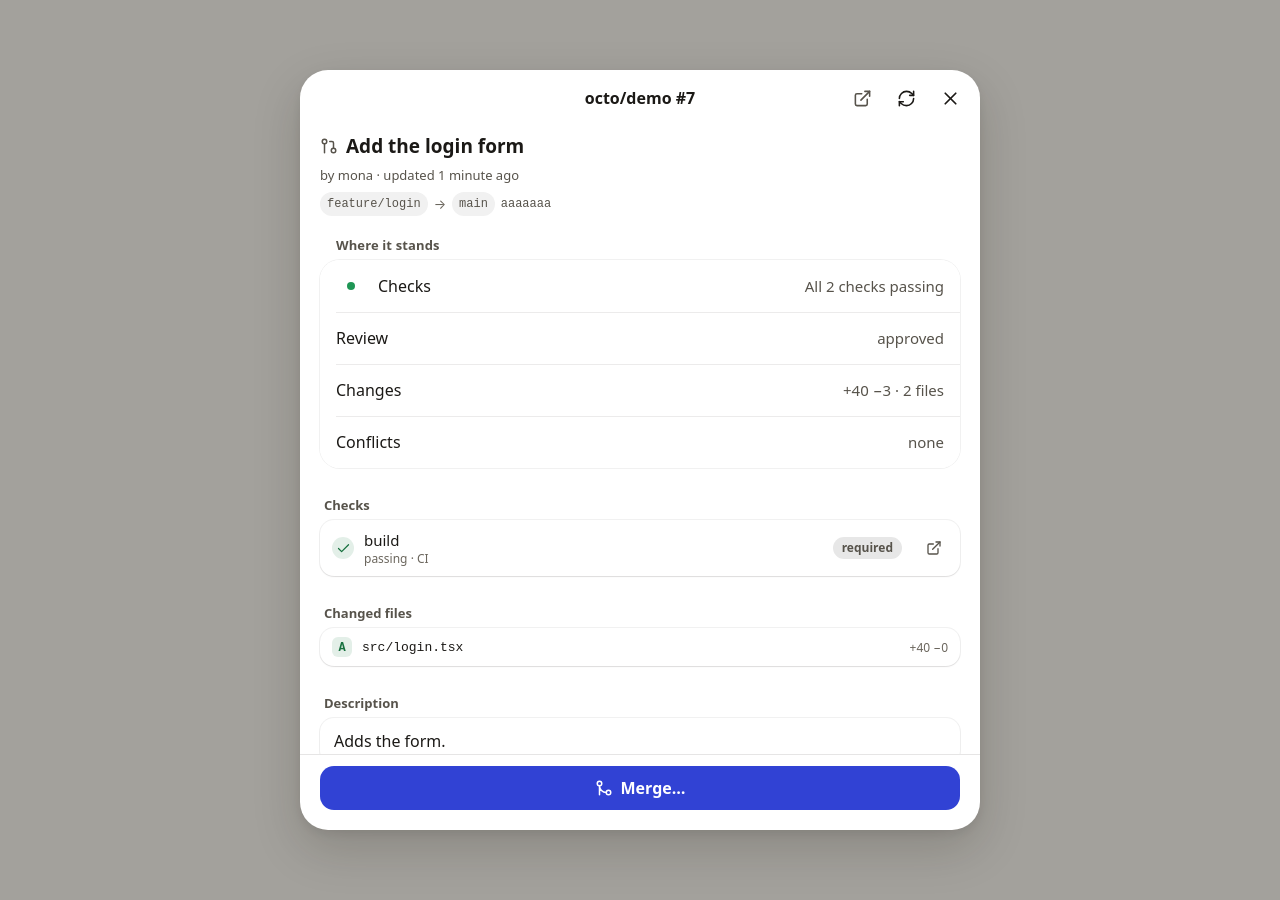
Test: the pull-request sheet › walks a merge through the method, the question that names it, and the result
Click the button "Merge…" at (640, 788), box 320,766 -> 960,810
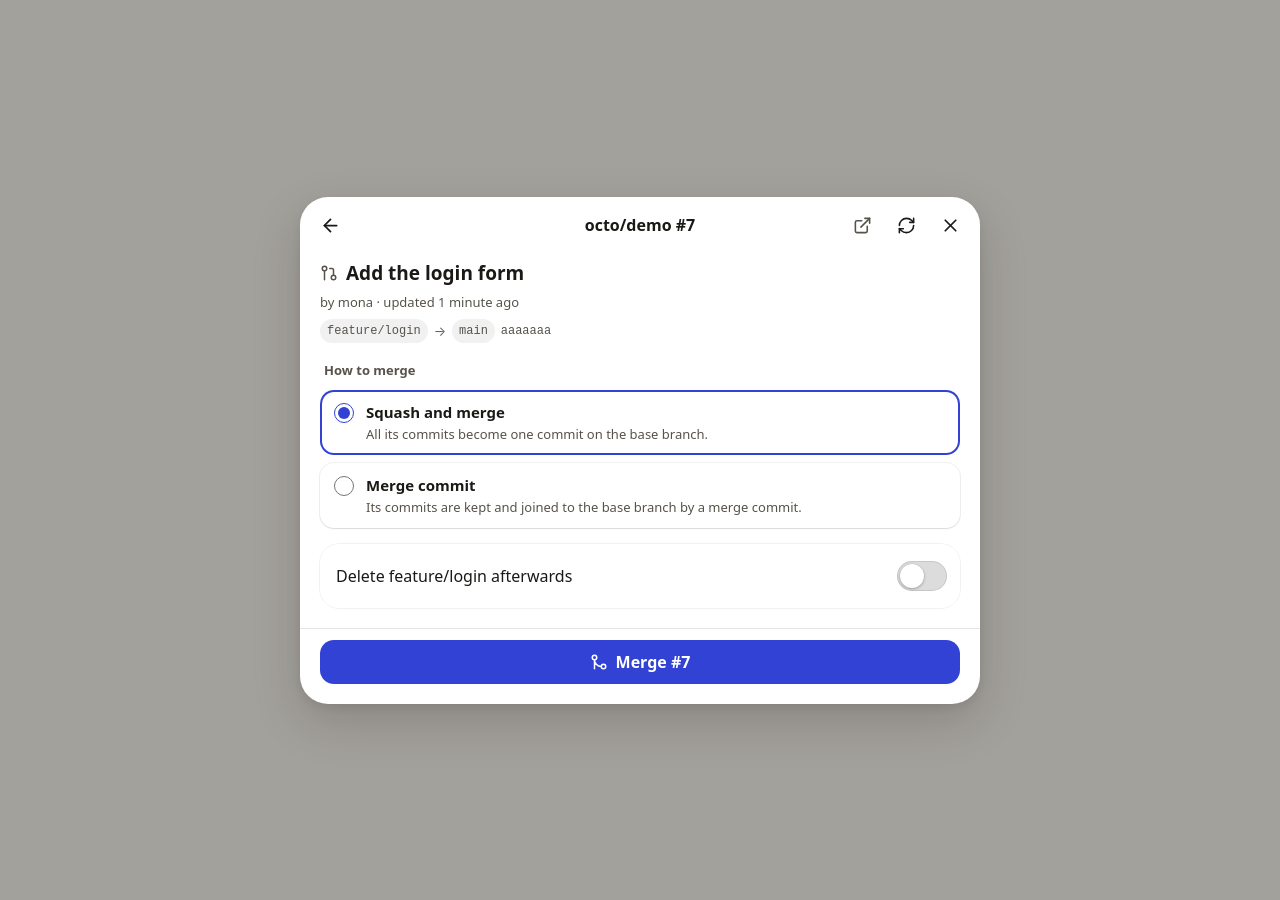
expect the radio button labelled "Squash and merge" is checked: met, box 334,402 -> 354,422
Click the radio button labelled "Merge commit" at (344, 486), box 334,476 -> 354,496
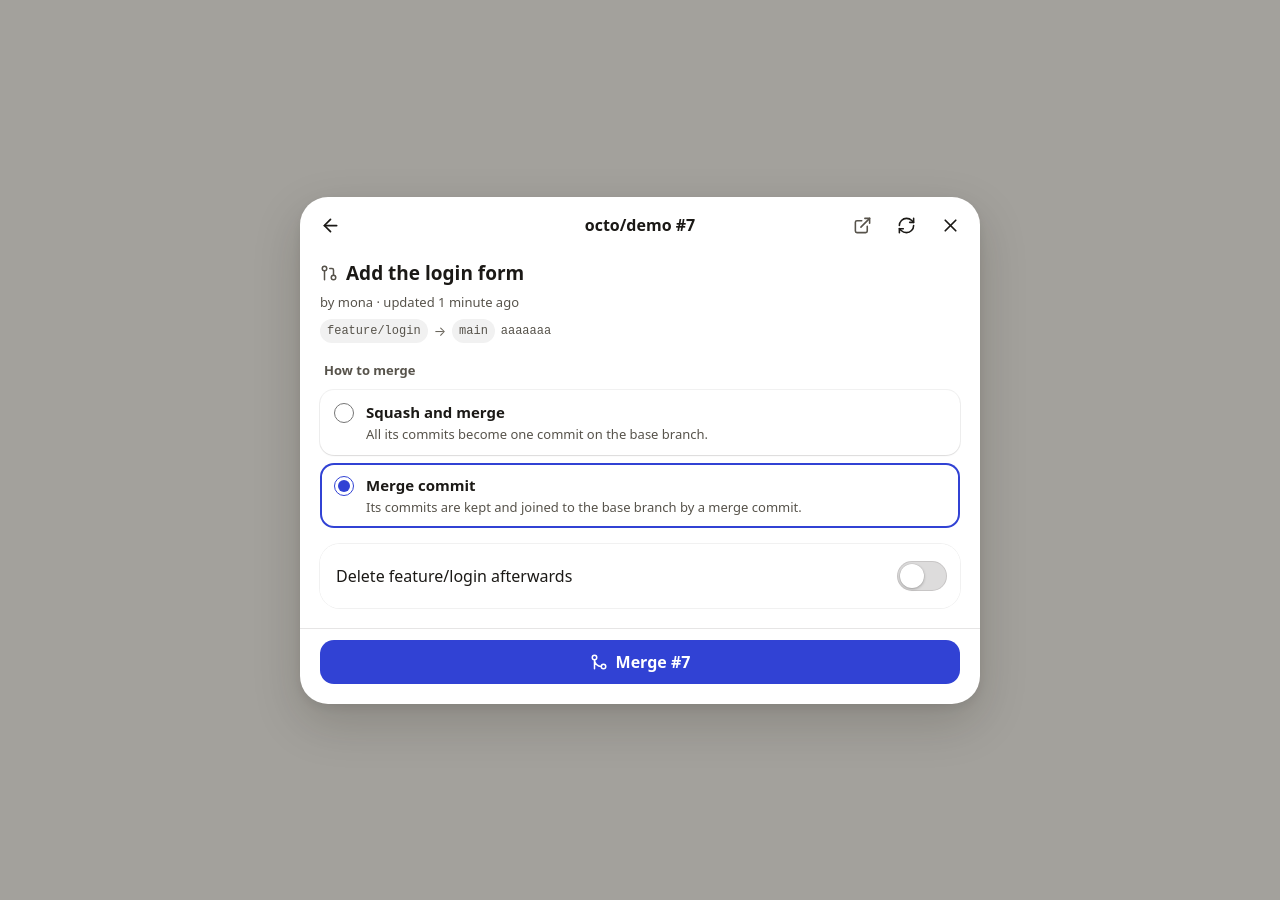
Click the button "Merge #7" at (640, 662), box 320,640 -> 960,684
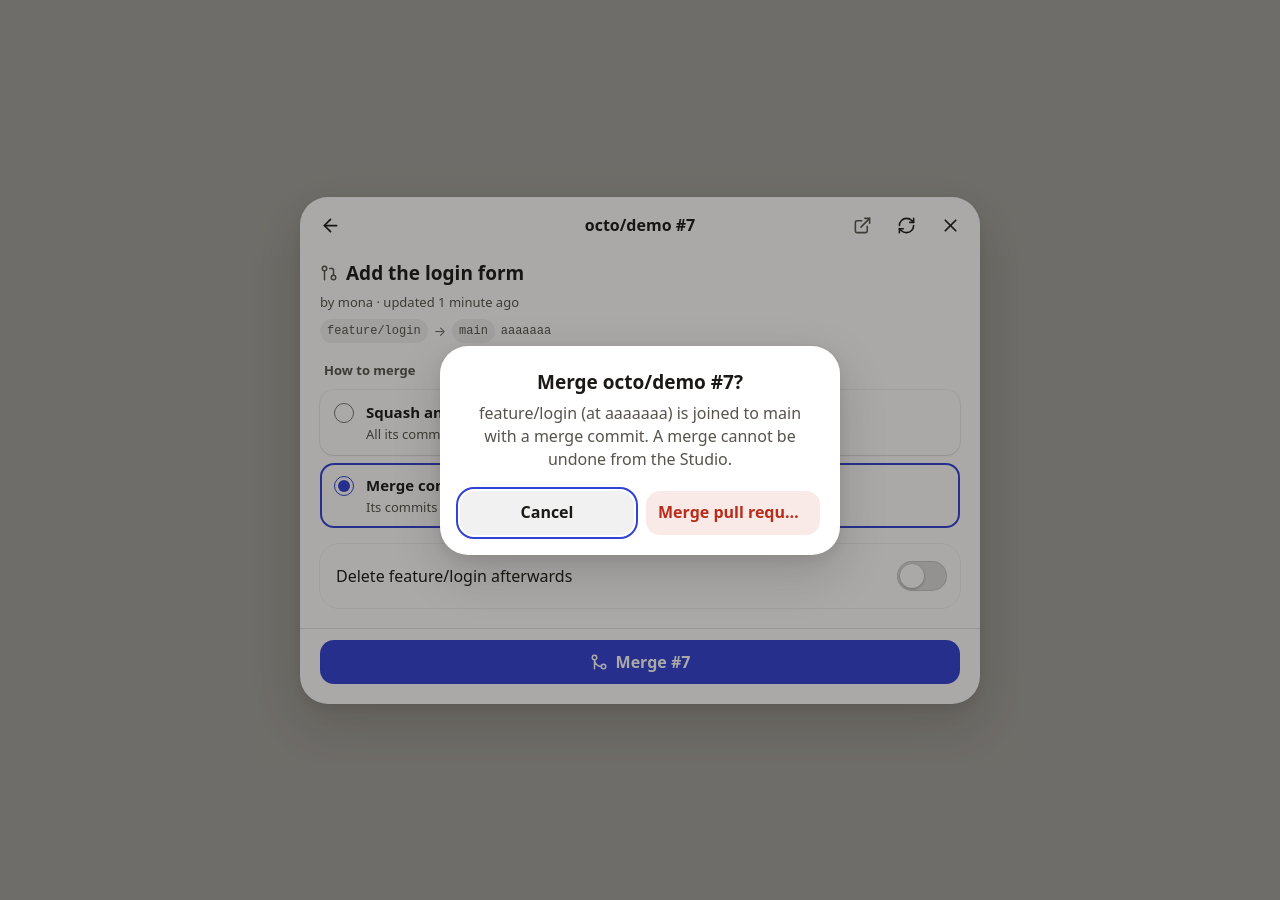
expect the dialog "Merge octo/demo #7?" is shown: met, box 440,346 -> 840,554
Click the button "Merge pull request #7" at (733, 512), box 646,490 -> 820,534
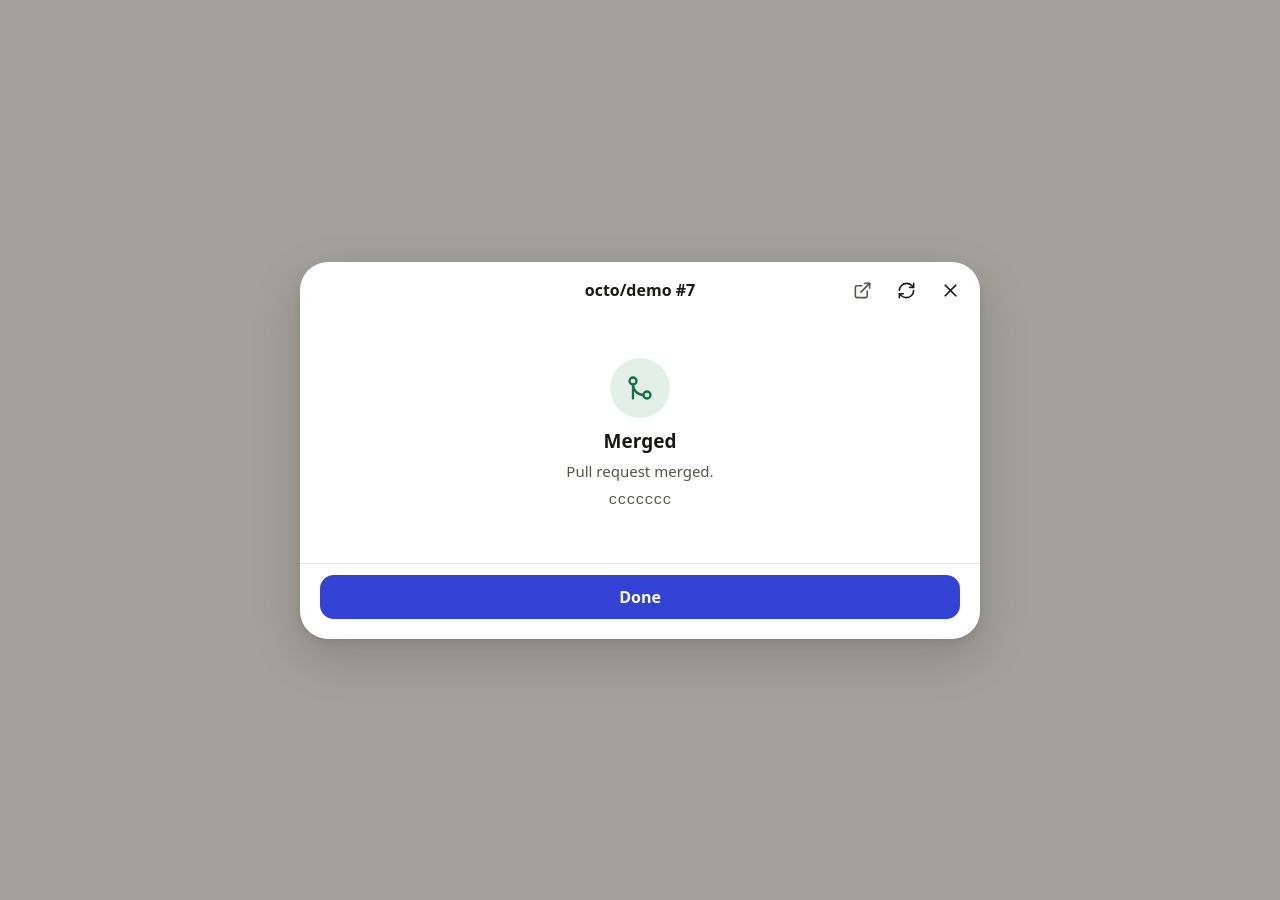
expect the text "Merged" is shown: met, box 604,430 -> 676,452
expect the text "ccccccc" is shown: met, box 608,490 -> 672,510
